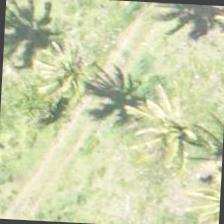Kelapa_Sawit: (20, 18, 115, 113), (121, 76, 216, 170)
